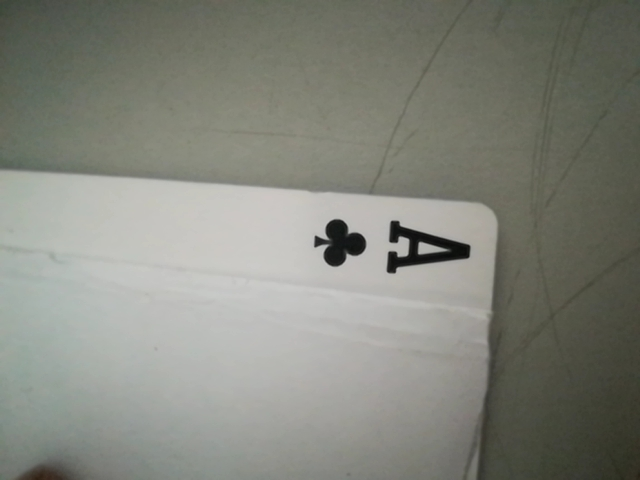mh a: (298, 206, 486, 283)
